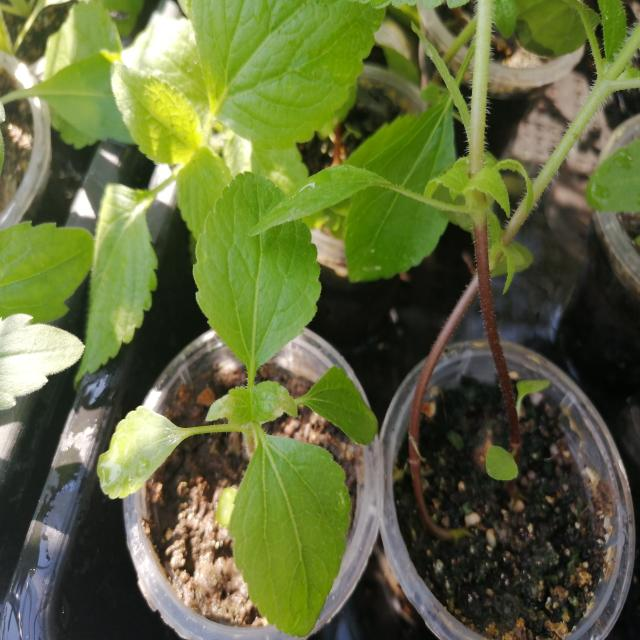billygoat_weed: (131, 169, 359, 611)
